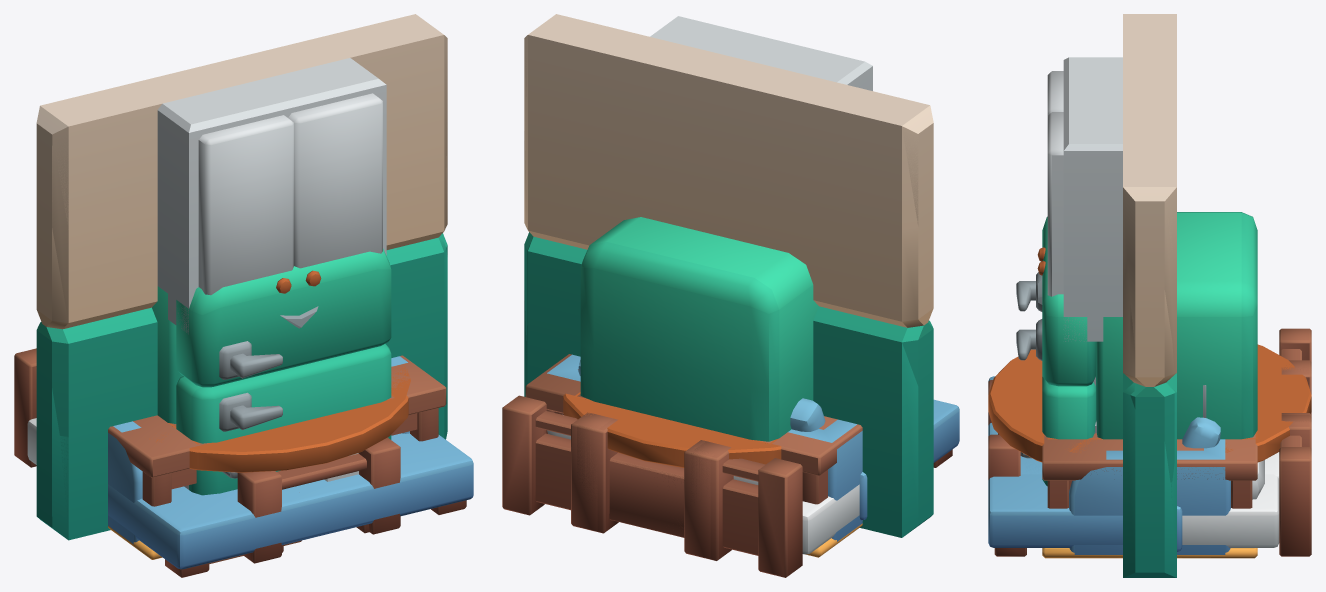
The model's file is interior.glb.
The picture shows the model from 3 angles, left to right: view 1: azimuth 30°, elevation 25°; view 2: azimuth 150°, elevation 25°; view 3: azimuth 270°, elevation 25°; orthographic projection. The views are drawn at different scales.
Visible parts, largest first — view 1: wall, kitchencabinet, wall_window_open, bed_double_A, fridge_A_door_top, wall_half, fridge_A_door_bottom, table_round_A, table_medium_long, bed_single_B, Cube.616, couch; view 2: wall, wall_window_open, Cube.616, bed_double_A, bed_single_A, table_round_A, kitchencabinet, bed_single_B, table_medium_long, couch, wall_half; view 3: Cube.616, kitchencabinet, wall, bed_double_A, wall_half, table_round_A, couch, wall_window_open, table_medium_long, fridge_A_door_top, fridge_A_door_bottom, bed_single_B (+2 smaller).
Part boxes in pixels (box(x1,y1,x2,y2)): wall: box(36, 14, 444, 540); kitchencabinet: box(157, 58, 386, 334); wall_window_open: box(36, 14, 447, 539); bed_double_A: box(14, 348, 473, 577); fridge_A_door_top: box(176, 248, 391, 387); wall_half: box(351, 35, 447, 439); fridge_A_door_bottom: box(176, 344, 391, 495); table_round_A: box(149, 364, 410, 472); table_medium_long: box(108, 355, 446, 506); bed_single_B: box(237, 437, 400, 563); Cube.616: box(152, 286, 182, 423); couch: box(108, 356, 409, 543); wall: box(524, 14, 933, 537); wall_window_open: box(524, 14, 933, 537); Cube.616: box(580, 217, 818, 441); bed_double_A: box(502, 395, 959, 577); bed_single_A: box(577, 418, 714, 559); table_round_A: box(563, 393, 781, 467); kitchencabinet: box(650, 16, 872, 90); bed_single_B: box(571, 412, 733, 560); table_medium_long: box(525, 354, 862, 504); couch: box(547, 354, 862, 541); wall_half: box(526, 35, 704, 384); Cube.616: box(1096, 212, 1257, 439); kitchencabinet: box(1037, 57, 1122, 341); wall: box(1123, 14, 1176, 575); bed_double_A: box(988, 328, 1311, 556); wall_half: box(1123, 187, 1176, 577); table_round_A: box(988, 344, 1311, 462); couch: box(1069, 417, 1230, 554); wall_window_open: box(1123, 14, 1176, 572); table_medium_long: box(1042, 438, 1257, 508); fridge_A_door_top: box(1016, 216, 1095, 386); fridge_A_door_bottom: box(1016, 319, 1095, 486); bed_single_B: box(988, 360, 1311, 479).
Size of the model in its own units: 4 by 4.6 by 3.
Materials: 2 (2 with a texture image).
